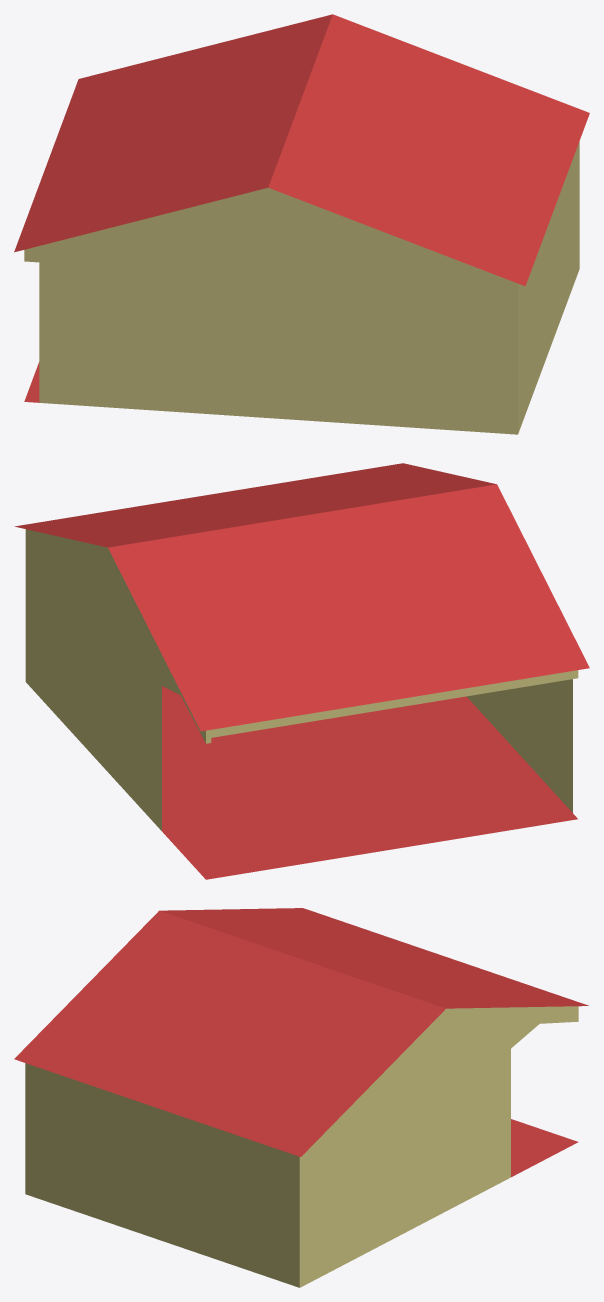
3 views of the same model, one above another, from view 1: azimuth 30°, elevation 25°; view 2: azimuth 150°, elevation 25°; view 3: azimuth 270°, elevation 25° (orthographic). The views are drawn at different scales.
Bounding box in the file's own units: 37.09 × 36.24 × 14.44.
